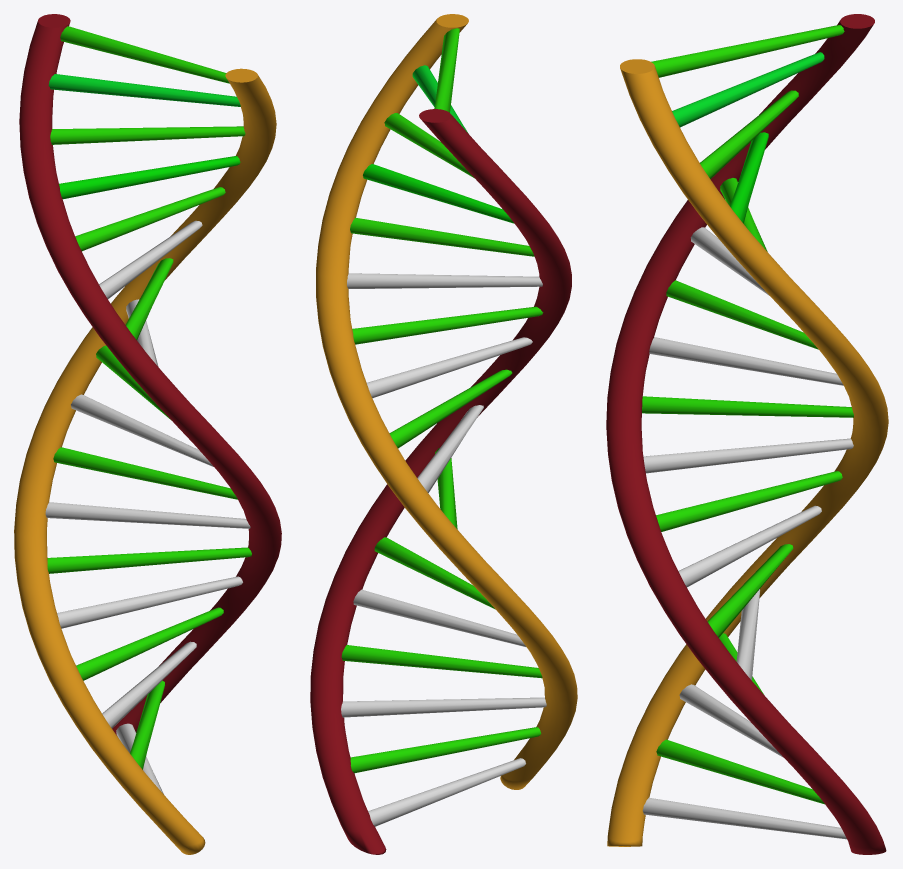
The model's file is dna_broken.dae.
3 renders of one model, left to right at view 1: azimuth 30°, elevation 25°; view 2: azimuth 150°, elevation 25°; view 3: azimuth 270°, elevation 25°, orthographic. The views are drawn at different scales.
Parts seen in each view (by area): view 1: Cylinder_1_1, Cylinder_0, Cylinder_1_12, Cylinder_11, Cylinder_1_2, Cylinder_1, Cylinder_13, Cylinder_1_10, Cylinder_3, Cylinder_1_0, Cylinder_1_14, Cylinder_1_4 (+8 smaller); view 2: Cylinder_1_1, Cylinder_0, Cylinder_15, Cylinder_1_14, Cylinder_5, Cylinder_1_16, Cylinder_1_6, Cylinder_1_4, Cylinder_13, Cylinder_7, Cylinder_17, Cylinder_3 (+7 smaller); view 3: Cylinder_0, Cylinder_1_1, Cylinder_1_8, Cylinder_9, Cylinder_17, Cylinder_7, Cylinder_1_0, Cylinder_1_10, Cylinder_1_16, Cylinder_1, Cylinder_1_6, Cylinder_11 (+7 smaller).
Part boxes in pixels (<box>): Cylinder_1_1: <box>14,68,276,854</box>; Cylinder_0: <box>19,14,281,736</box>; Cylinder_1_12: <box>47,547,251,573</box>; Cylinder_11: <box>45,502,250,528</box>; Cylinder_1_2: <box>50,126,245,144</box>; Cylinder_1: <box>48,74,240,106</box>; Cylinder_13: <box>57,576,242,628</box>; Cylinder_1_10: <box>53,447,237,499</box>; Cylinder_3: <box>59,156,240,199</box>; Cylinder_1_0: <box>60,26,229,83</box>; Cylinder_1_14: <box>76,607,223,680</box>; Cylinder_1_4: <box>75,187,225,251</box>; Cylinder_1_1: <box>316,14,577,789</box>; Cylinder_0: <box>310,109,571,854</box>; Cylinder_15: <box>341,697,546,717</box>; Cylinder_1_14: <box>341,645,542,678</box>; Cylinder_5: <box>347,273,542,288</box>; Cylinder_1_16: <box>350,727,541,773</box>; Cylinder_1_6: <box>352,306,543,344</box>; Cylinder_1_4: <box>350,217,534,256</box>; Cylinder_13: <box>353,589,526,647</box>; Cylinder_7: <box>366,337,532,398</box>; Cylinder_17: <box>368,758,525,826</box>; Cylinder_3: <box>363,164,514,223</box>; Cylinder_0: <box>606,14,886,854</box>; Cylinder_1_1: <box>607,59,888,846</box>; Cylinder_1_8: <box>642,396,853,417</box>; Cylinder_9: <box>643,438,853,473</box>; Cylinder_17: <box>642,797,846,839</box>; Cylinder_7: <box>649,337,843,385</box>; Cylinder_1_0: <box>651,25,844,77</box>; Cylinder_1_10: <box>656,471,842,531</box>; Cylinder_1_16: <box>656,739,824,804</box>; Cylinder_1: <box>672,52,824,127</box>; Cylinder_1_6: <box>666,280,818,349</box>; Cylinder_11: <box>678,505,821,587</box>.
Bounding box in the file's own units: 1.2 × 1.17 × 3.74.
